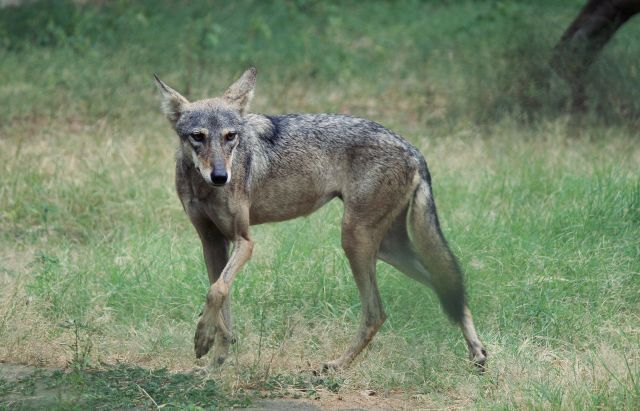wolf: (146, 61, 497, 379)
